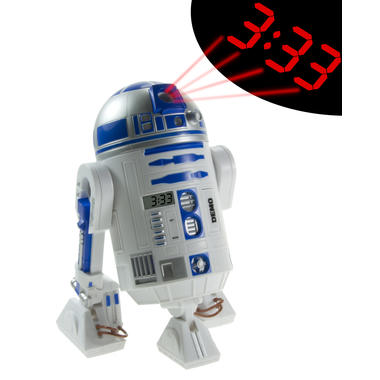r2d2: (55, 81, 236, 366)
